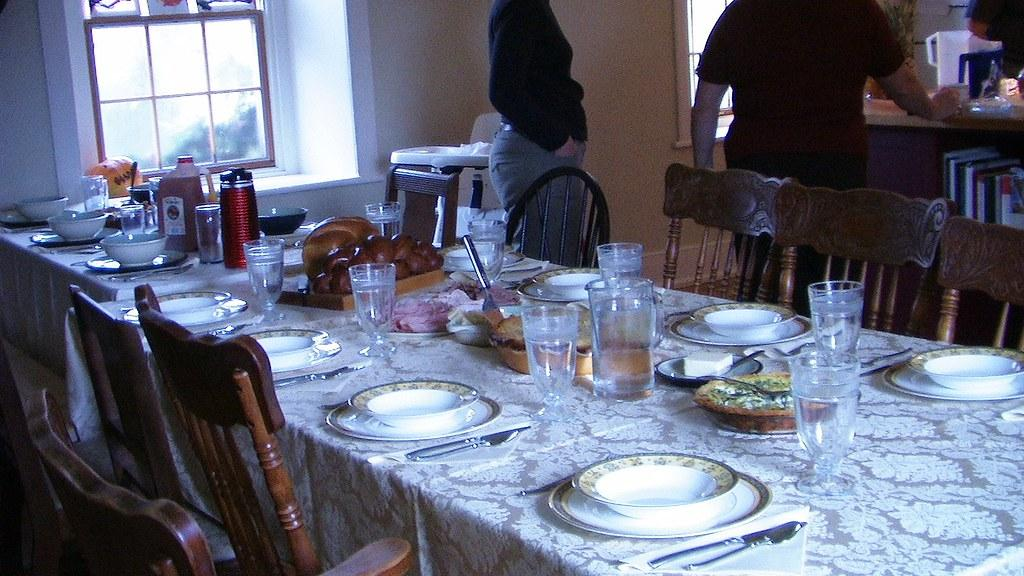table: (3, 196, 1023, 574)
